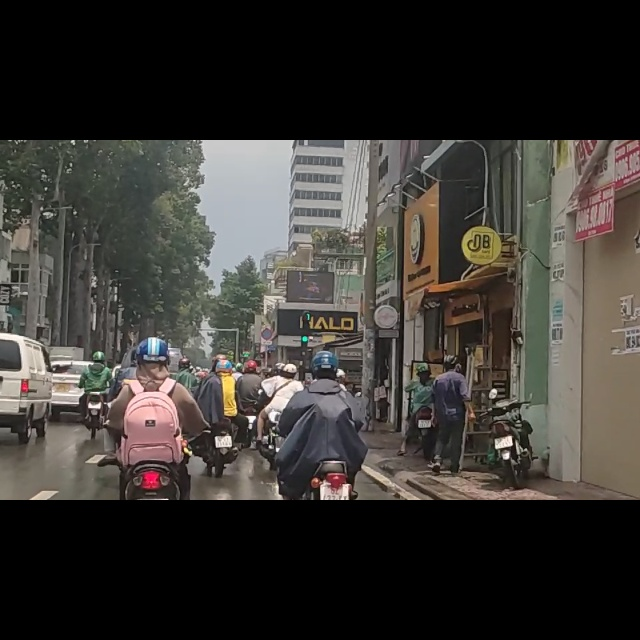bien_cam: (259, 333, 274, 357)
